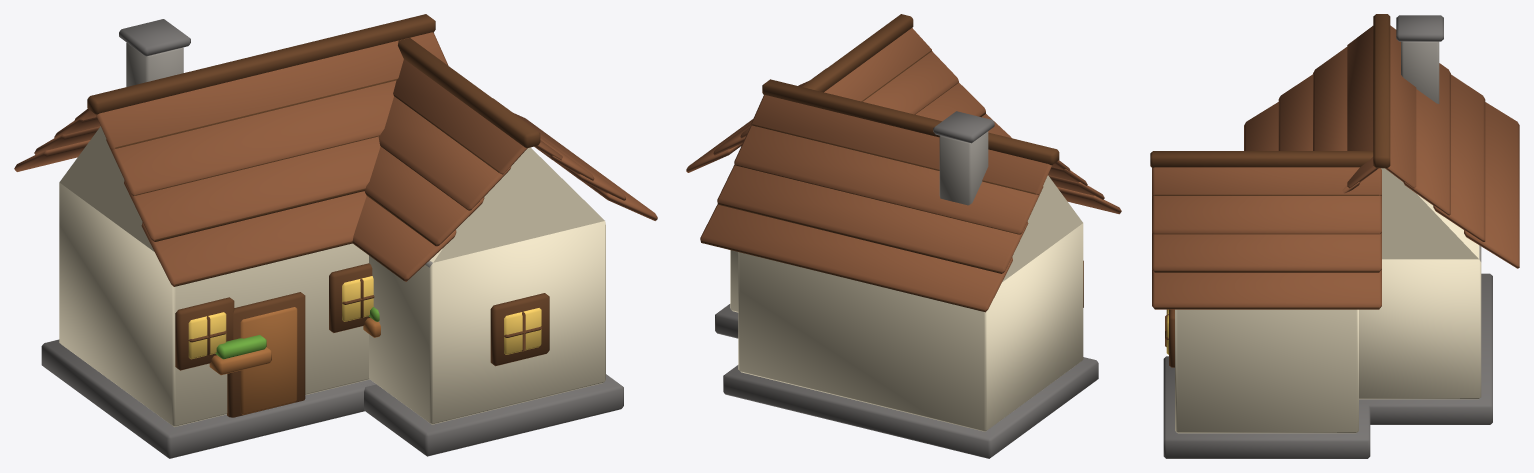
Rendered from B_MedHouseL.fbx.
3 views of the same model, side by side, from view 1: azimuth 30°, elevation 25°; view 2: azimuth 150°, elevation 25°; view 3: azimuth 270°, elevation 25° (orthographic). The views are drawn at different scales.
Parts seen in each view (by area): view 1: M_HouseL; view 2: M_HouseL; view 3: M_HouseL.
Part boxes in pixels (box(x1,y1,x2,y2)): M_HouseL: box(14, 14, 657, 458); M_HouseL: box(686, 14, 1121, 458); M_HouseL: box(1150, 14, 1519, 458).
Size of the model in its own units: 5.67 by 4.32 by 4.82.
Materials: 1 (1 with a texture image).
